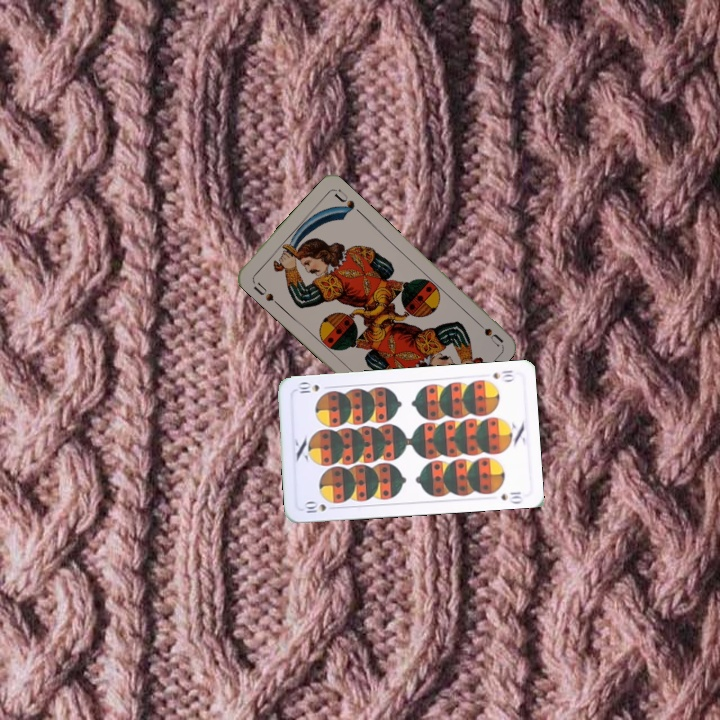S10: (300, 498, 339, 516), (489, 366, 516, 384)
SU: (470, 315, 505, 349), (249, 276, 282, 308)
